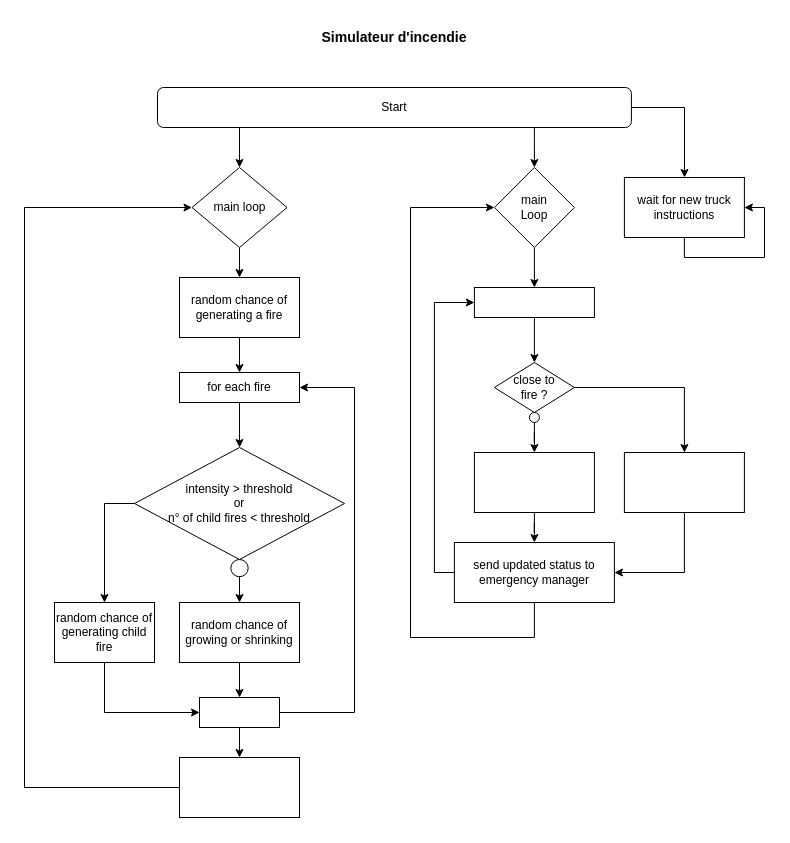
This 790x843 diagram has some shape labels left out. The shapes that lost their labels are listed below. From the top down, each one's box as (x1, y1, x2, y2) in pixels, then its label:
(473, 286, 594, 318): for each truck
(473, 452, 594, 512): move to location
(623, 452, 744, 512): extinguish fire
(198, 696, 280, 728): end of loop
(178, 756, 300, 818): send data to database
